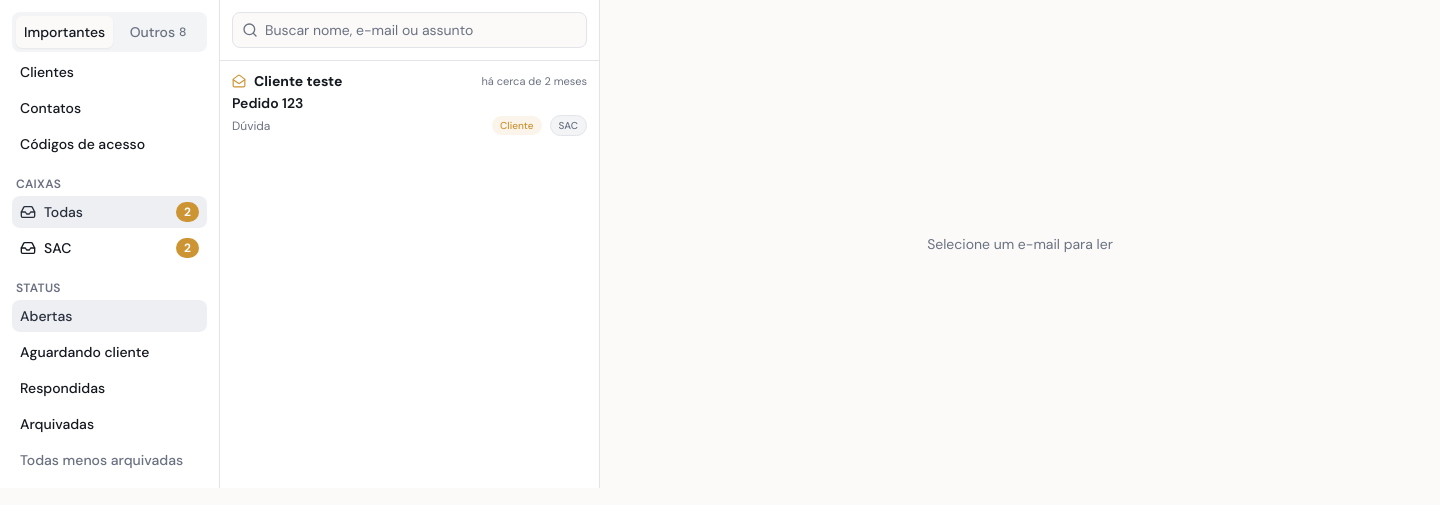
Test case: Inbox E-mail › usa corpo completo quando os campos limpos são nulos
This screenshot has width=1440, height=505.
Click the button "Cliente teste" at (298, 81), box 220,61 -> 599,146
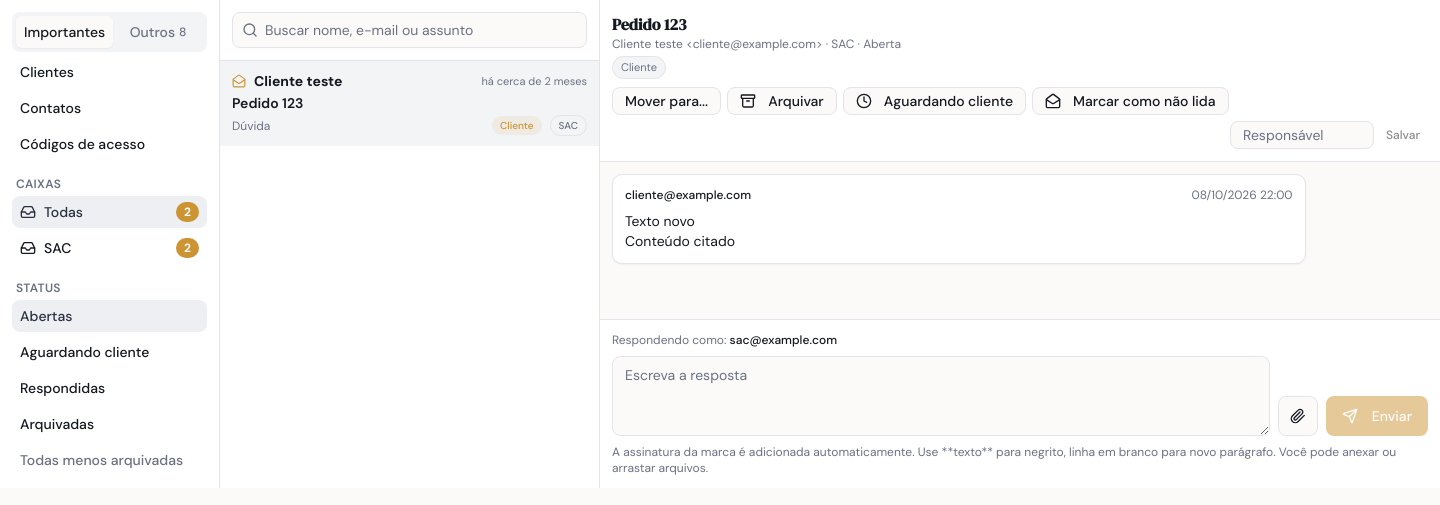
Expected: the text "Conteúdo citado" is shown, 625,232 -> 735,250
